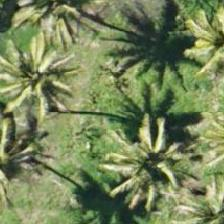coconut_tree: (72, 119, 162, 209), (0, 23, 89, 113), (15, 0, 105, 49), (177, 0, 223, 71), (165, 177, 223, 223)
